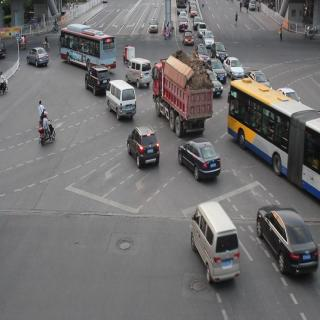BigCar: (229, 80, 320, 184), (60, 19, 124, 76), (150, 68, 217, 122)
Car: (189, 208, 241, 285), (265, 208, 318, 274), (177, 136, 234, 177), (134, 130, 164, 166), (107, 86, 139, 118), (128, 56, 152, 88), (81, 67, 112, 88), (25, 51, 53, 68), (224, 54, 246, 74), (206, 71, 225, 91), (202, 28, 218, 44), (147, 16, 162, 30), (177, 12, 191, 26), (181, 30, 196, 43)
